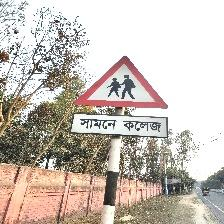College-in-front: (54, 48, 183, 157)
